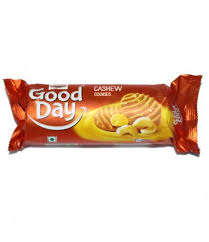gooday-small: (11, 82, 198, 151)
